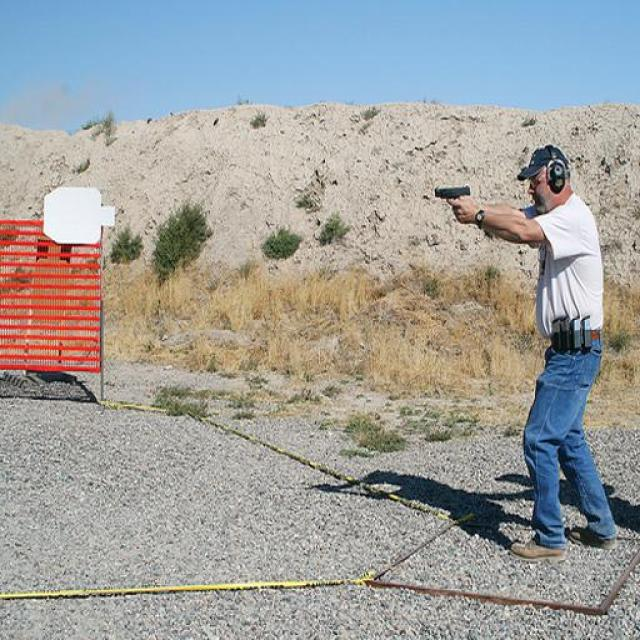pistol: (434, 183, 470, 211)
